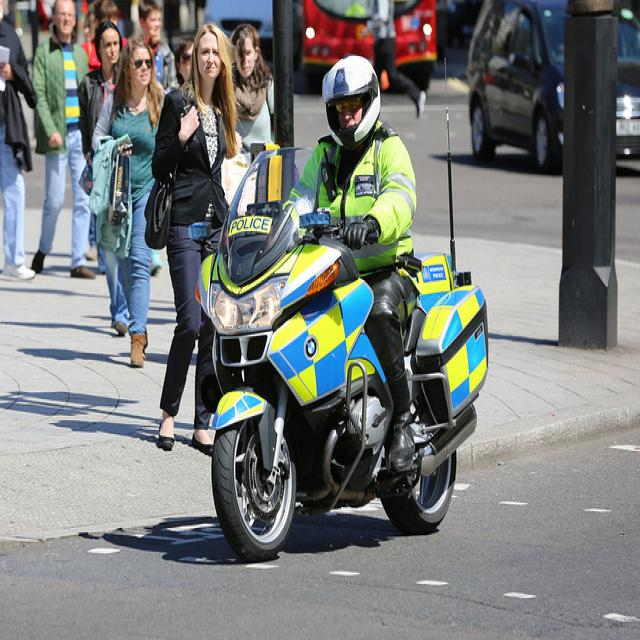motor: (191, 109, 493, 557)
